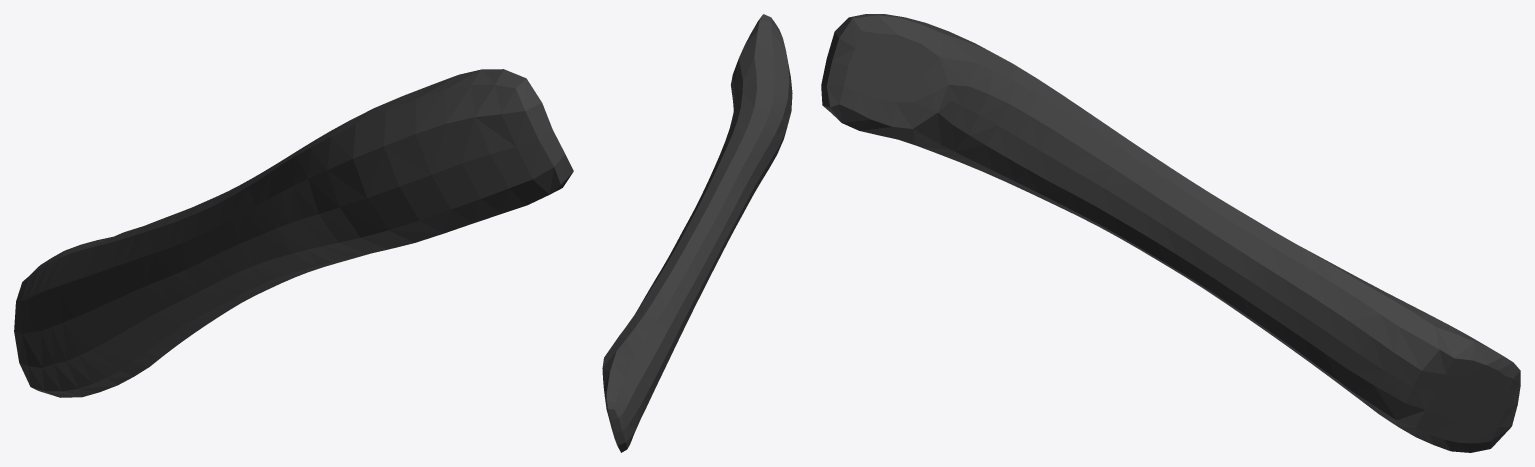
The model's file is Med_femorpatella_lig.glb.
3 views of the same model, side by side, from view 1: azimuth 30°, elevation 25°; view 2: azimuth 150°, elevation 25°; view 3: azimuth 270°, elevation 25° (orthographic). The views are drawn at different scales.
Visible parts, largest first — view 1: Med_femorpatella_lig; view 2: Med_femorpatella_lig; view 3: Med_femorpatella_lig.
Boxes of the visible parts, bbox=[...] form: Med_femorpatella_lig: bbox=[14, 69, 573, 397]; Med_femorpatella_lig: bbox=[602, 14, 792, 452]; Med_femorpatella_lig: bbox=[821, 14, 1520, 452].
Bounding box in the file's own units: 0.1905 × 0.6721 × 0.9033.
1 material, 1 textured.
